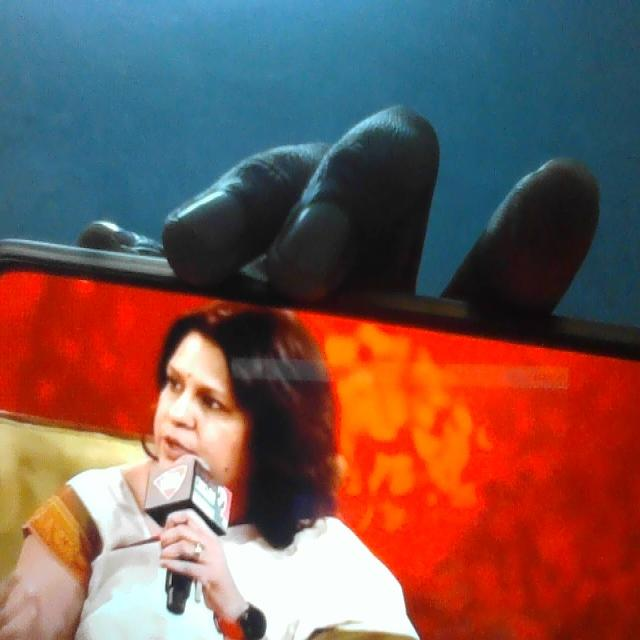fake: (145, 312, 254, 517)
